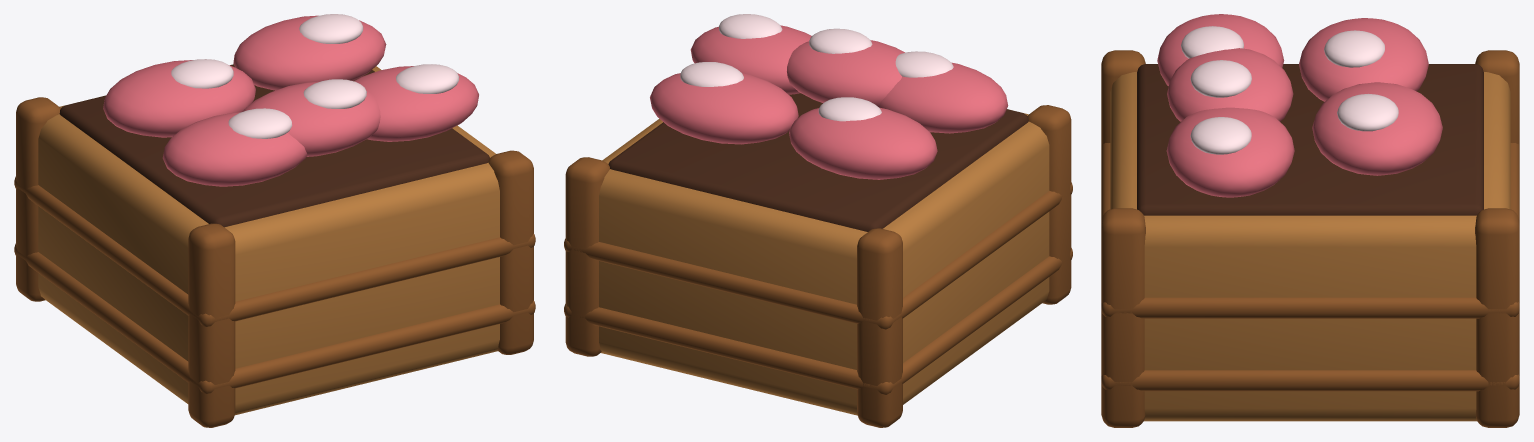
The model's file is crate_meat.glb.
3 views of the same model, side by side, from view 1: azimuth 30°, elevation 25°; view 2: azimuth 150°, elevation 25°; view 3: azimuth 270°, elevation 25° (orthographic). The views are drawn at different scales.
Visible parts, largest first — view 1: box, fill, slat, slat.001, post, steak, steak.001, steak.003, post.002, steak.004, steak.002, post.001 (+5 smaller); view 2: box, fill, slat.001, slat, post.001, steak, steak.001, post.003, steak.003, steak.002, post, steak.004 (+5 smaller); view 3: box, fill, slat.001, post.003, post.002, slat, steak.001, steak.004, steak, steak.002, steak.003, fat.001 (+6 smaller).
Part boxes in pixels (box(x1,y1,x2,y2)): box: box(38, 66, 499, 415); fill: box(59, 64, 489, 227); slat: box(14, 243, 535, 393); slat.001: box(14, 176, 535, 326); post: box(188, 223, 235, 427); steak: box(103, 60, 255, 137); steak.001: box(233, 15, 386, 90); steak.003: box(162, 112, 307, 186); post.002: box(488, 150, 533, 354); steak.004: box(354, 66, 478, 141); steak.002: box(243, 81, 380, 156); post.001: box(16, 97, 60, 301); box: box(599, 113, 1049, 415); fill: box(608, 93, 1028, 231); slat.001: box(564, 182, 1072, 329); slat: box(564, 248, 1072, 394); post.001: box(857, 228, 902, 427); steak: box(789, 107, 937, 179); steak.001: box(650, 73, 798, 144); post.003: box(565, 157, 609, 356); steak.003: box(878, 62, 1008, 133); steak.002: box(787, 40, 904, 106); post: box(1027, 105, 1071, 304); steak.004: box(690, 25, 811, 94); box: box(1110, 72, 1510, 421); fill: box(1137, 64, 1483, 215); slat.001: box(1101, 143, 1519, 318); post.003: box(1475, 208, 1519, 427); post.002: box(1101, 208, 1145, 427); slat: box(1101, 370, 1519, 391); steak.001: box(1312, 82, 1442, 175); steak.004: box(1166, 107, 1294, 197); steak: box(1299, 18, 1428, 101); steak.002: box(1167, 48, 1293, 121); steak.003: box(1157, 14, 1284, 85); fat.001: box(1337, 93, 1398, 131).
Bounding box in the file's own units: 0.94 × 0.708 × 0.94.
